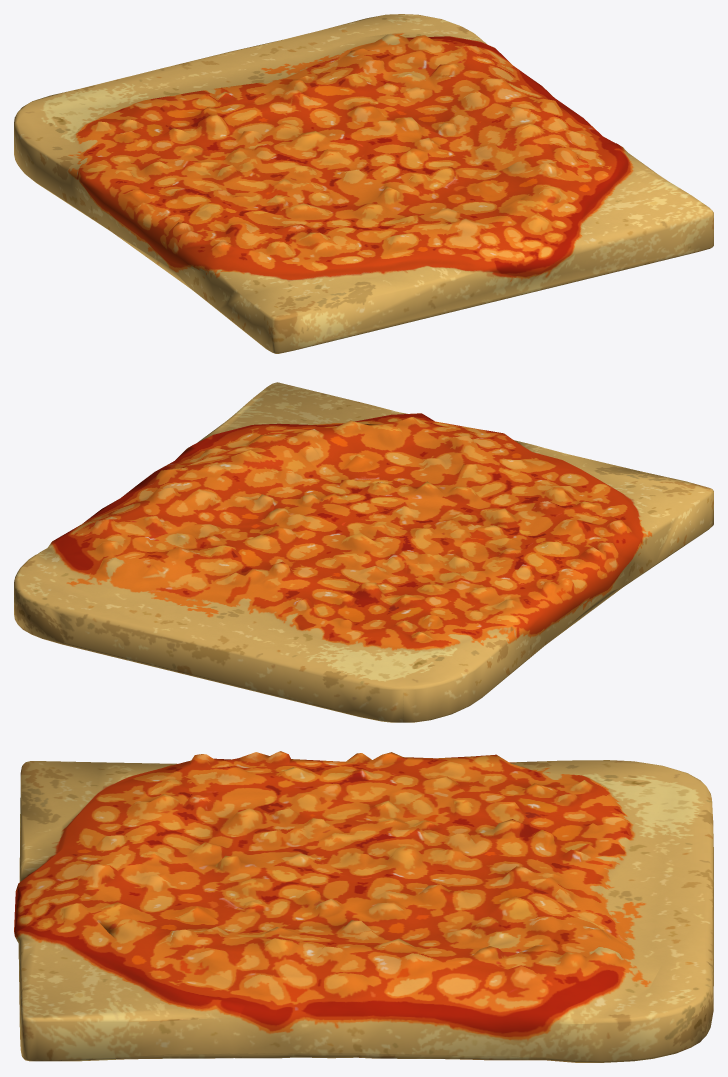
Rendered from s_beansontoast_01.fbx.
The picture shows the model from 3 angles, top to bottom: view 1: azimuth 30°, elevation 25°; view 2: azimuth 150°, elevation 25°; view 3: azimuth 270°, elevation 25°; orthographic projection. The views are drawn at different scales.
Visible parts, largest first — view 1: s_beansontoast_01; view 2: s_beansontoast_01; view 3: s_beansontoast_01.
Boxes of the visible parts, bbox=[...] form: s_beansontoast_01: bbox=[14, 14, 713, 353]; s_beansontoast_01: bbox=[14, 382, 713, 722]; s_beansontoast_01: bbox=[14, 751, 713, 1062].
Size of the model in its own units: 40.7 by 5.57 by 45.8.
